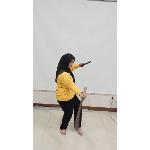Golok: (74, 84, 90, 132)
